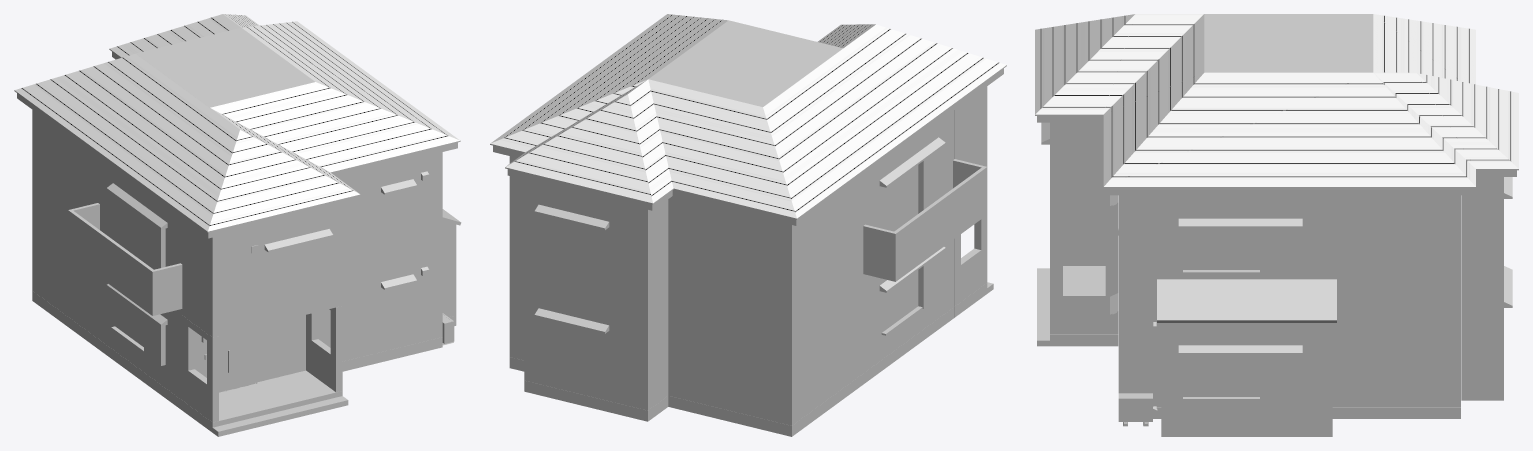
The model's file is House_2021_T.fbx.
3 views of the same model, side by side, from view 1: azimuth 30°, elevation 25°; view 2: azimuth 150°, elevation 25°; view 3: azimuth 270°, elevation 25° (orthographic). The views are drawn at different scales.
Parts seen in each view (by area): view 1: House_2021_T; view 2: House_2021_T; view 3: House_2021_T.
Boxes of the visible parts, box(x1,y1,x2,y2) form: House_2021_T: box(14, 14, 461, 436); House_2021_T: box(490, 14, 1006, 436); House_2021_T: box(1035, 14, 1518, 436).
Bounding box in the file's own units: 1013 × 764 × 1130.
